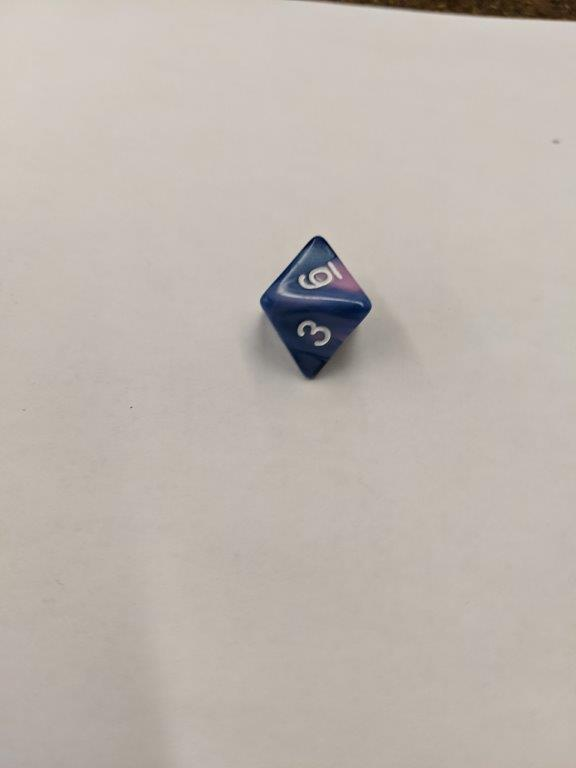d8-6: (257, 234, 375, 381)
